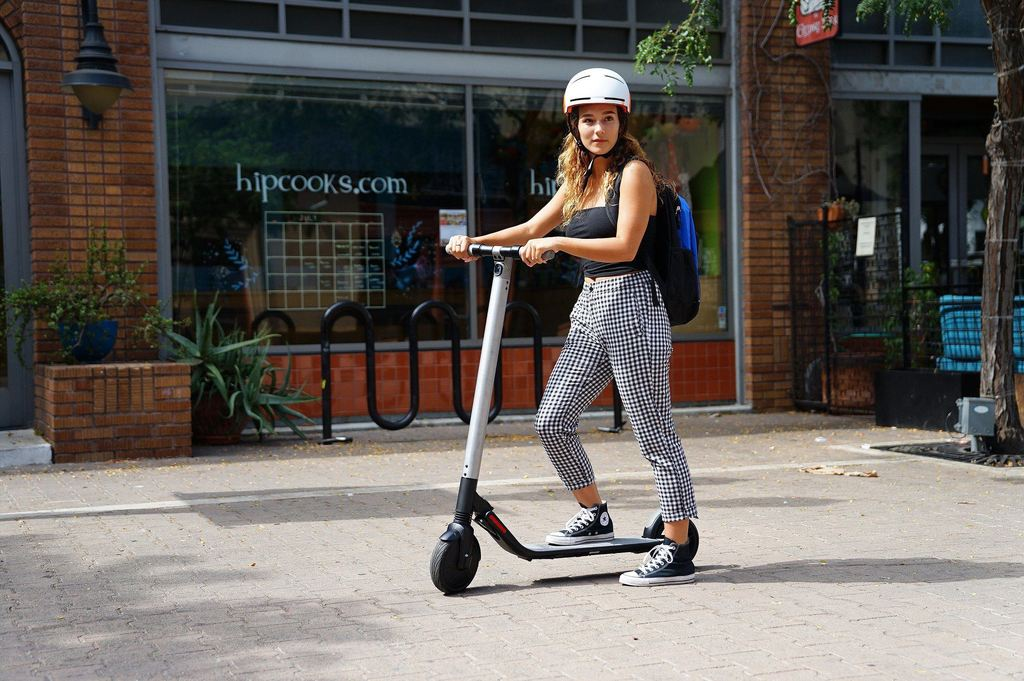scooter: (428, 240, 713, 597)
with helmet: (558, 62, 637, 166)
